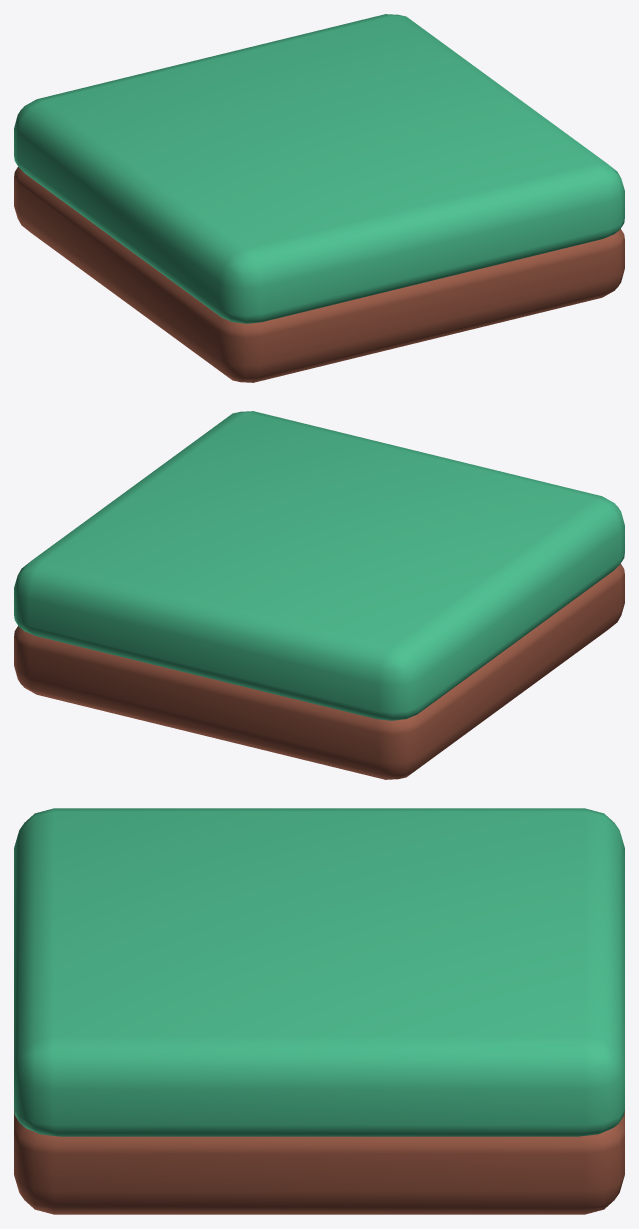
Rendered from tileForest.glb.
3 renders of one model, top to bottom at view 1: azimuth 30°, elevation 25°; view 2: azimuth 150°, elevation 25°; view 3: azimuth 270°, elevation 25°, orthographic. The views are drawn at different scales.
Visible parts, largest first — view 1: tileMedium_forest; view 2: tileMedium_forest; view 3: tileMedium_forest.
Boxes of the visible parts, box(x1,y1,x2,y2) form: tileMedium_forest: box(14, 14, 624, 382); tileMedium_forest: box(14, 411, 624, 779); tileMedium_forest: box(14, 808, 624, 1214).
Bounding box in the file's own units: 2 × 0.6306 × 2.
